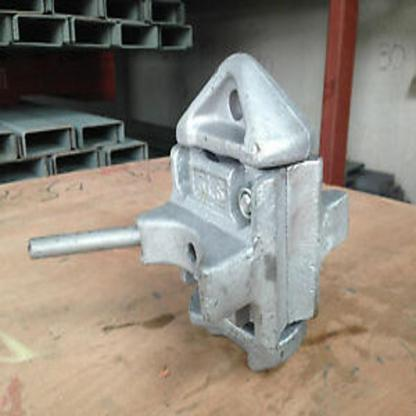Twistlock: (26, 48, 345, 371)
